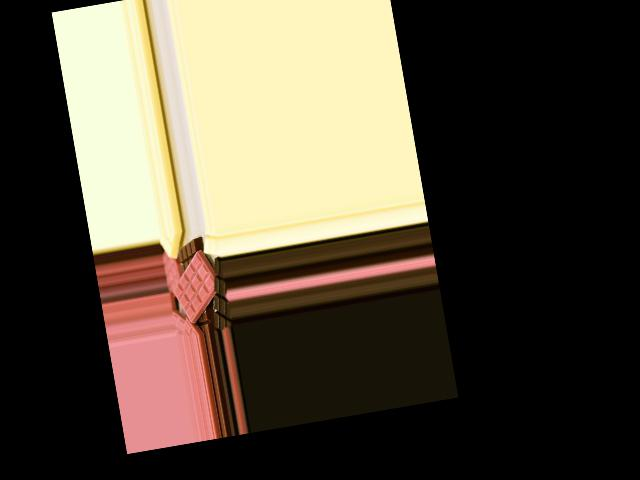chocolate: (165, 248, 232, 326)
